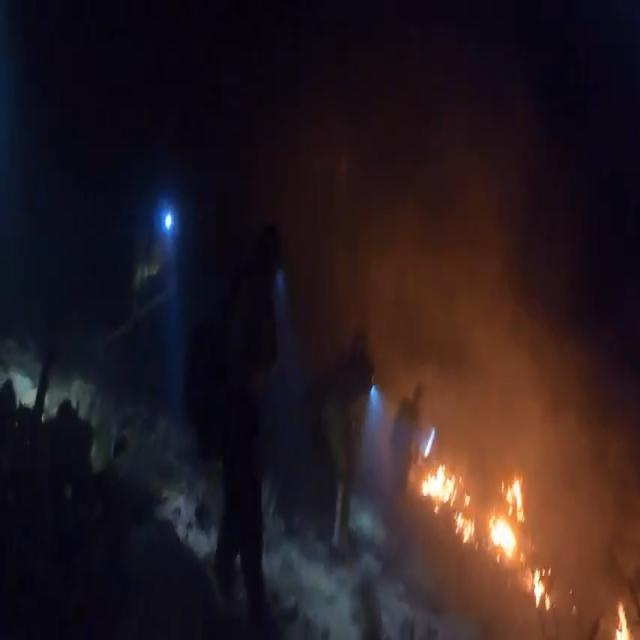Fire: (414, 437, 628, 640)
